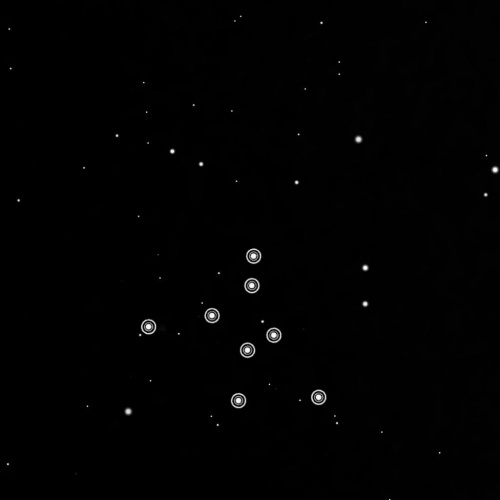hercules: (134, 241, 332, 415)
